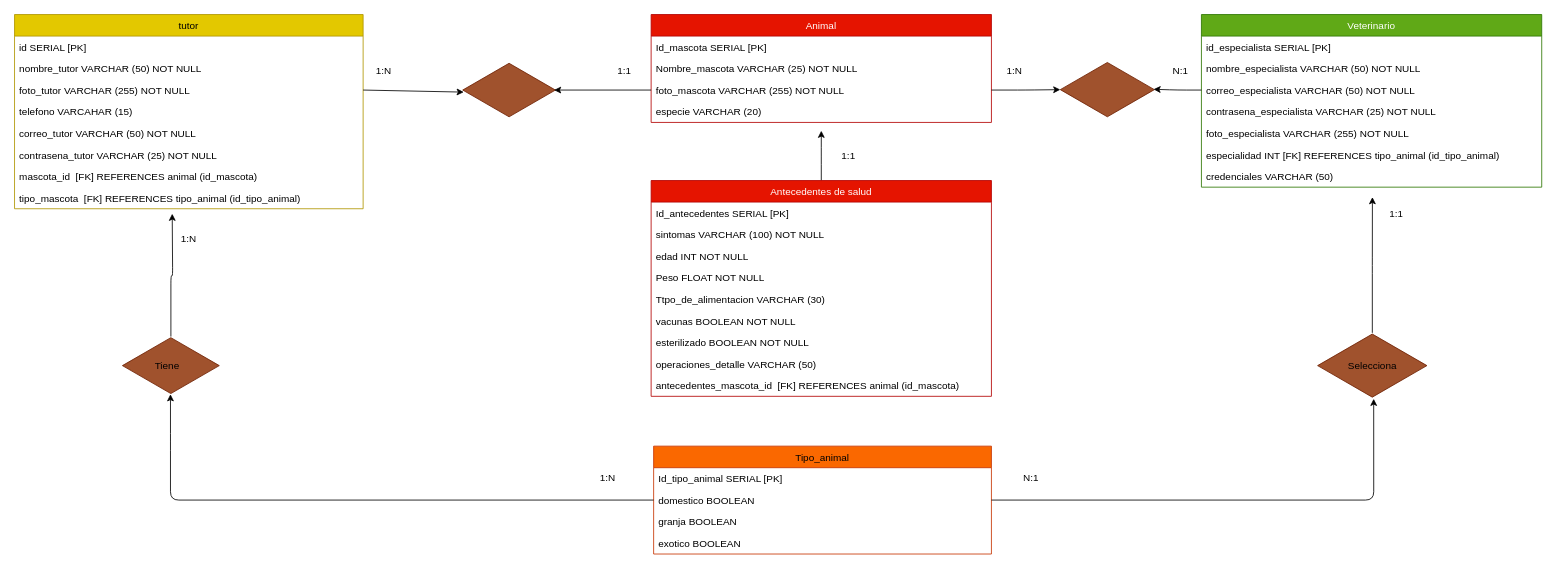
Image size: 1556x571. Some labels were removed from this diagram. Each missing label, with the centre of its shape:
"Atiende" goes at (x=1106, y=89).
"Inscribe" goes at (x=508, y=89).
